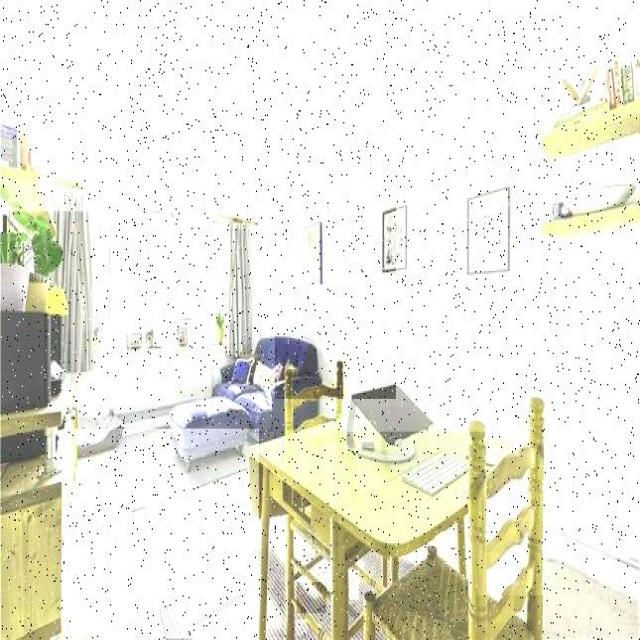Wall: (0, 0, 605, 211), (475, 4, 639, 595), (336, 83, 514, 431), (64, 429, 259, 639), (275, 161, 396, 398), (262, 187, 320, 332), (544, 559, 639, 639), (267, 517, 284, 637), (491, 549, 525, 592), (297, 583, 326, 613), (435, 532, 453, 563), (365, 555, 379, 575), (350, 572, 359, 600), (296, 620, 308, 636), (296, 537, 306, 555), (318, 564, 328, 580)
